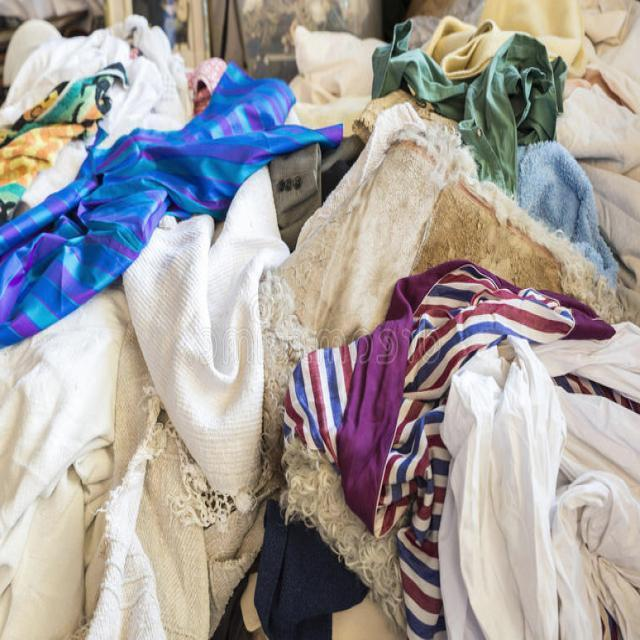clothes: (0, 95, 295, 640), (401, 276, 595, 636)
